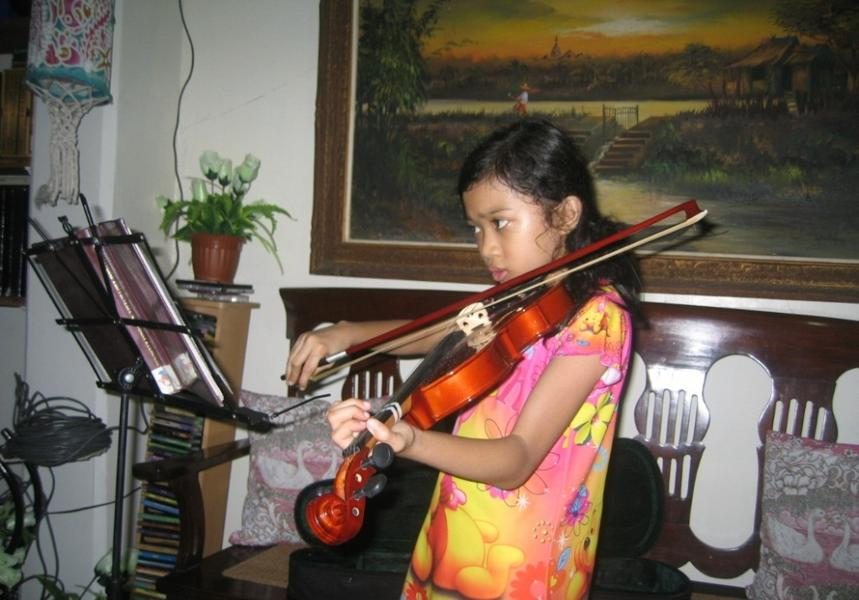person: (286, 117, 647, 599)
